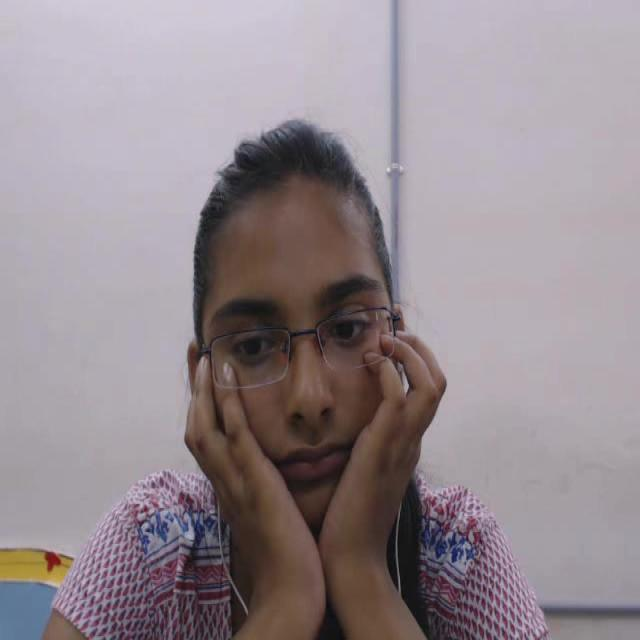Bored: (166, 98, 439, 564)
